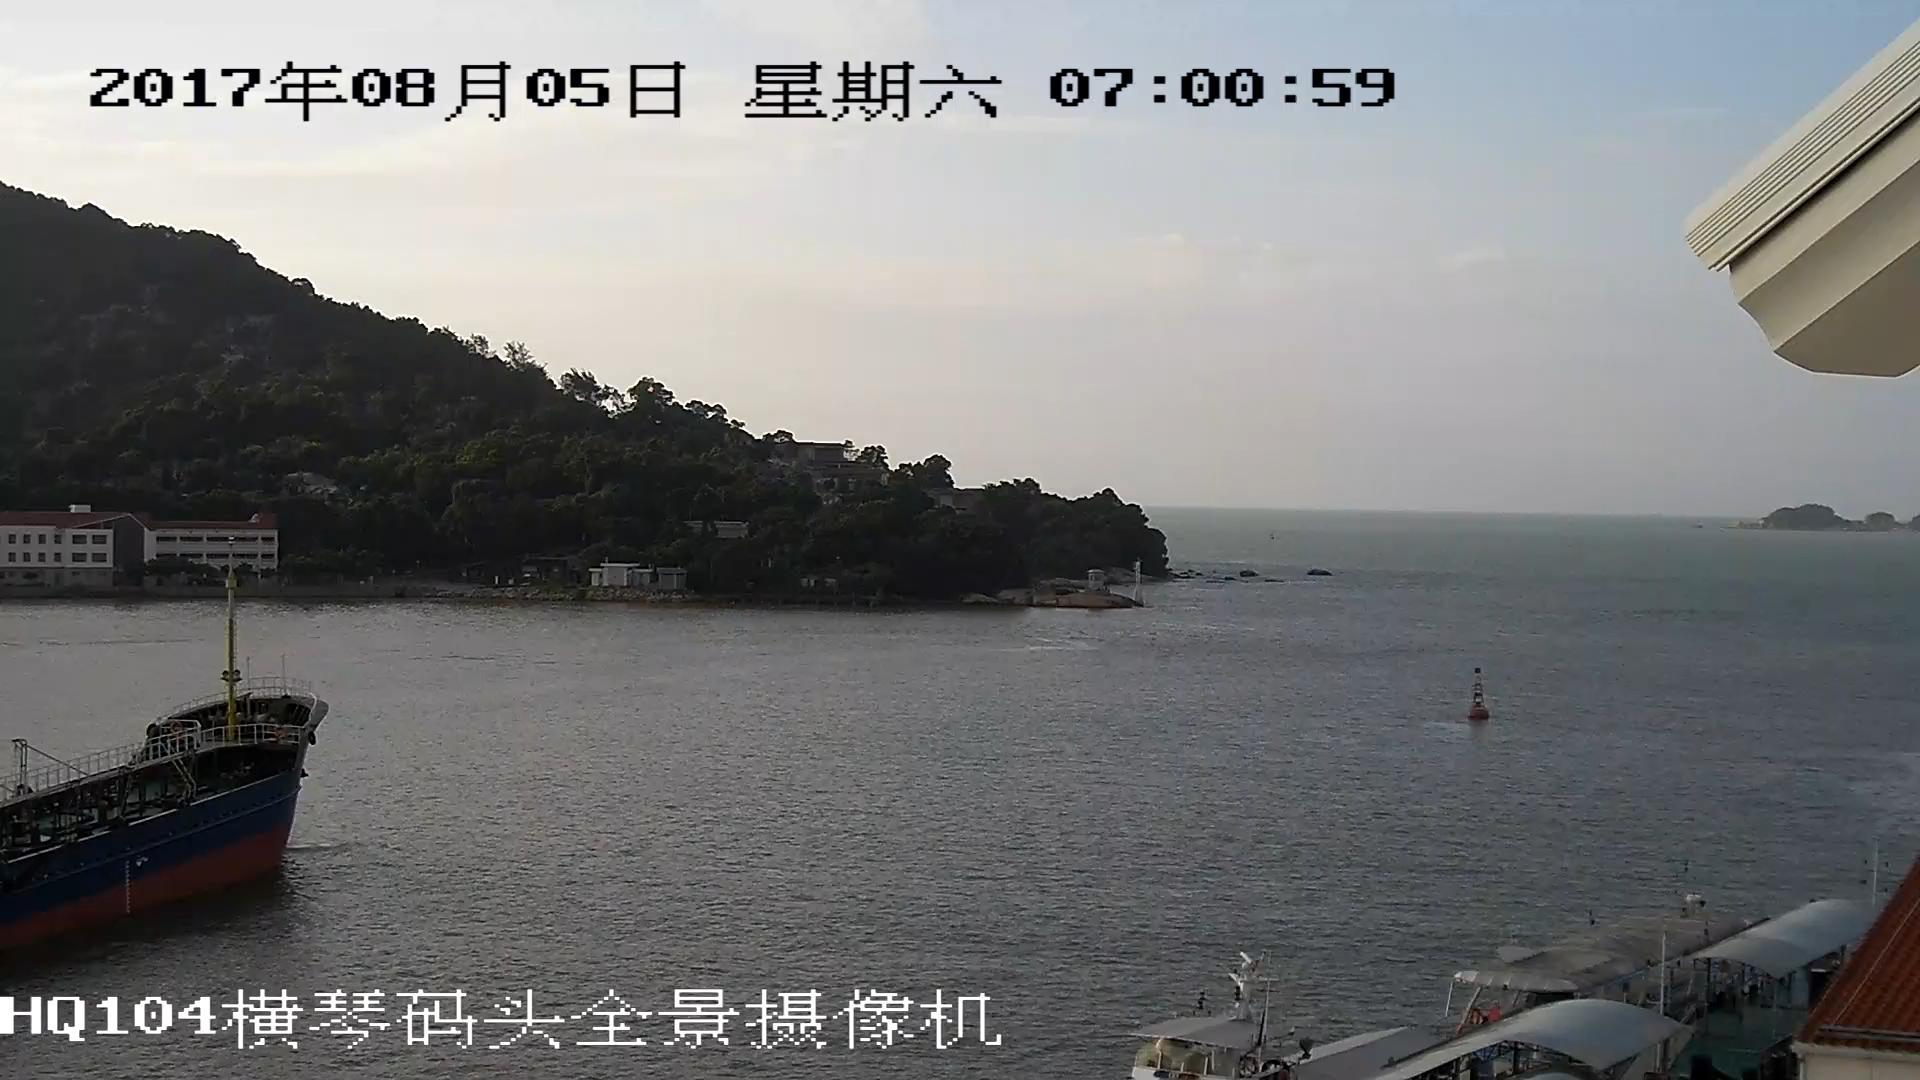Ship: (3, 534, 324, 984)
